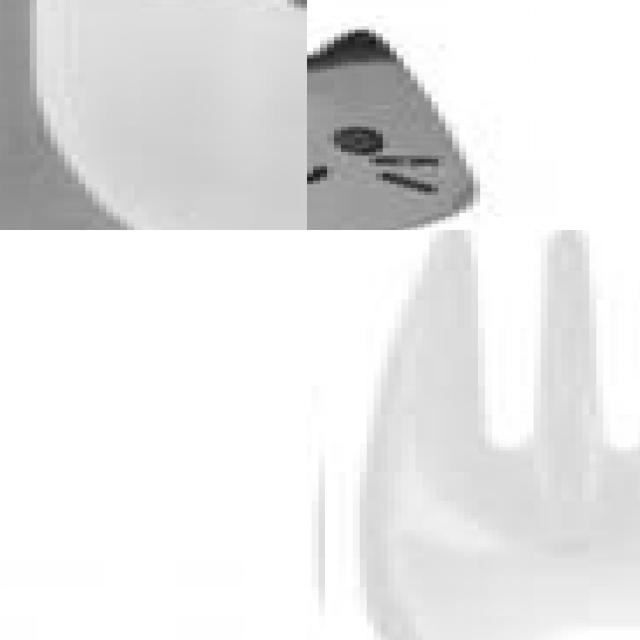forks: (325, 230, 640, 640), (0, 0, 307, 230)
